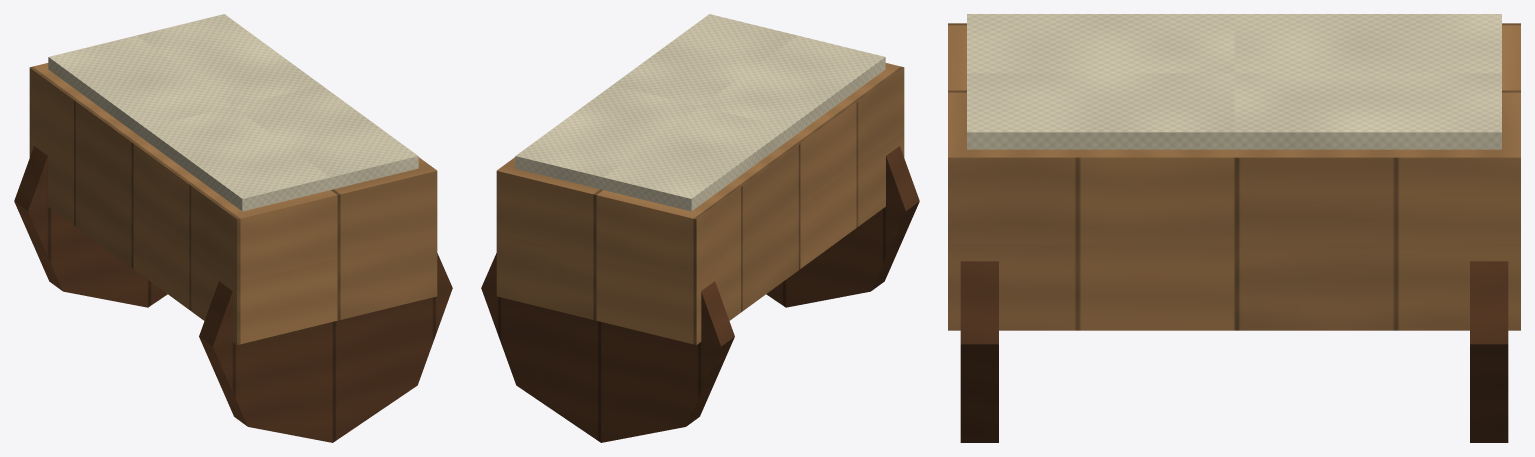
The model's file is kolyska.glb.
3 views of the same model, side by side, from view 1: azimuth 30°, elevation 25°; view 2: azimuth 150°, elevation 25°; view 3: azimuth 270°, elevation 25° (orthographic). The views are drawn at different scales.
Parts seen in each view (by area): view 1: kolyska; view 2: kolyska; view 3: kolyska.
Part boxes in pixels (x1,y1,x2,y2): kolyska: [14, 14, 452, 442]; kolyska: [481, 14, 919, 442]; kolyska: [948, 14, 1520, 442].
Size of the model in its own units: 0.6 by 0.63 by 0.9.
Materials: 3 (3 with a texture image).
